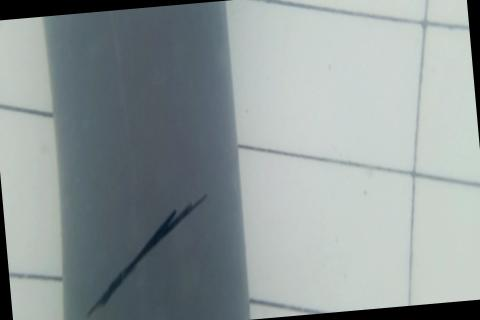keretakan: (73, 191, 221, 320)
